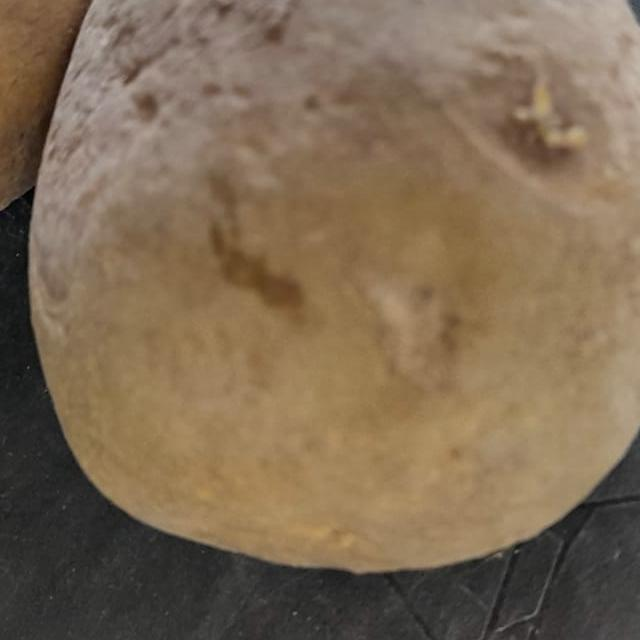potato: (7, 0, 640, 602)
